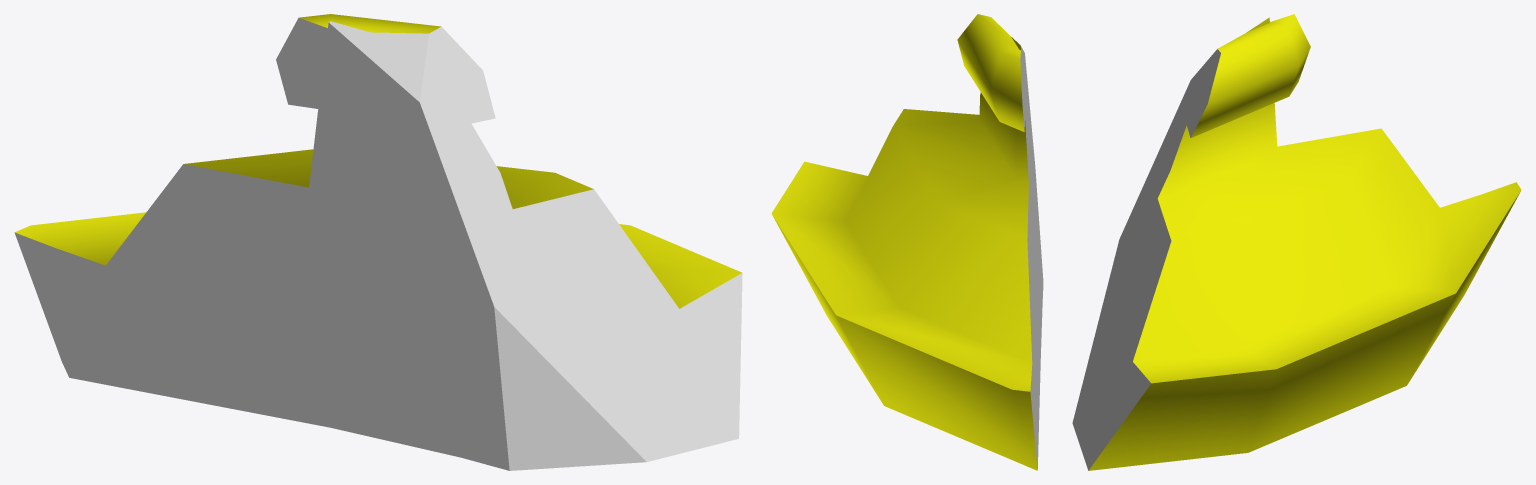
The model's file is mdl_ciudadela_casa_pilar1_fracturepart13.fbx.
3 views of the same model, side by side, from view 1: azimuth 30°, elevation 25°; view 2: azimuth 150°, elevation 25°; view 3: azimuth 270°, elevation 25° (orthographic). The views are drawn at different scales.
Parts seen in each view (by area): view 1: mdl_ciudadela_casa_pilar1_fracturepart13; view 2: mdl_ciudadela_casa_pilar1_fracturepart13; view 3: mdl_ciudadela_casa_pilar1_fracturepart13.
Boxes of the visible parts, bbox=[...] form: mdl_ciudadela_casa_pilar1_fracturepart13: bbox=[14, 14, 742, 470]; mdl_ciudadela_casa_pilar1_fracturepart13: bbox=[771, 14, 1043, 470]; mdl_ciudadela_casa_pilar1_fracturepart13: bbox=[1072, 14, 1521, 470].
Bounding box in the file's own units: 0.7497 × 0.581 × 0.7067.
